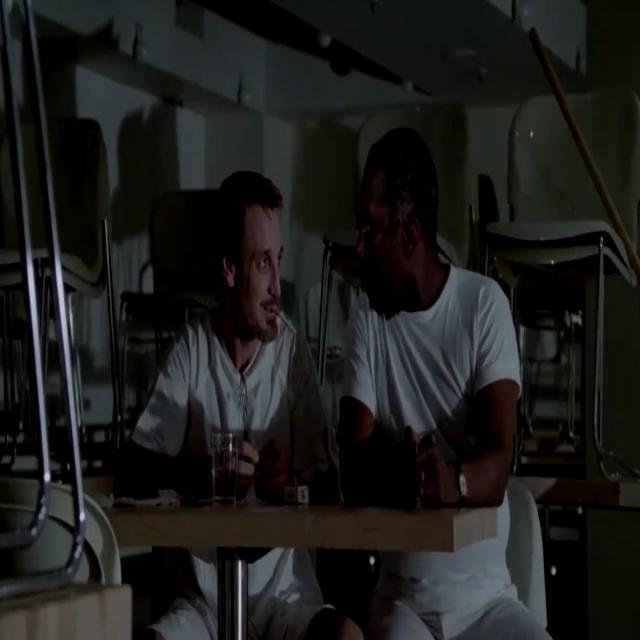Smooking: (276, 294, 300, 348)
